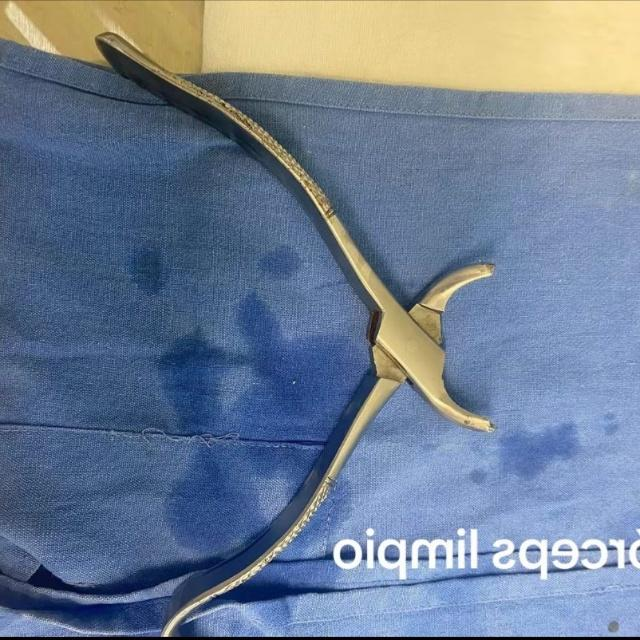forceps: (95, 34, 494, 639)
